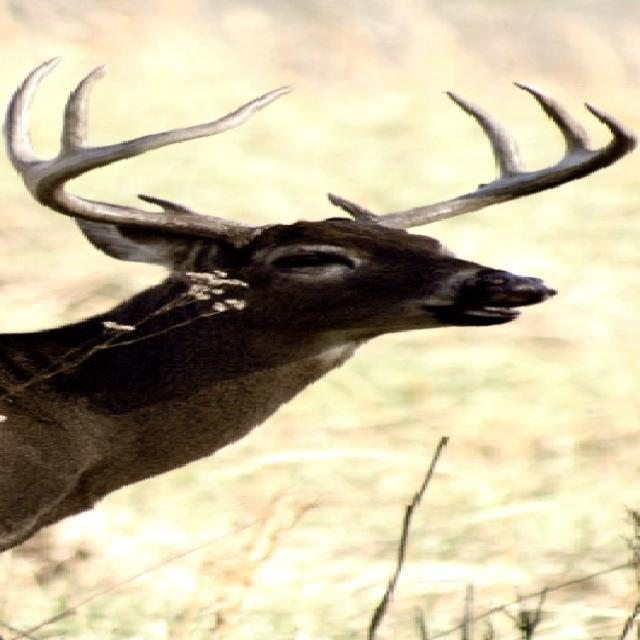L-G1: (325, 192, 377, 221)
L-G2: (442, 90, 528, 180)
L-G3: (510, 80, 592, 159)
R-F: (22, 85, 296, 250)
R-G1: (137, 193, 202, 215)
R-G2: (4, 55, 65, 178)
R-G3: (58, 64, 110, 155)
